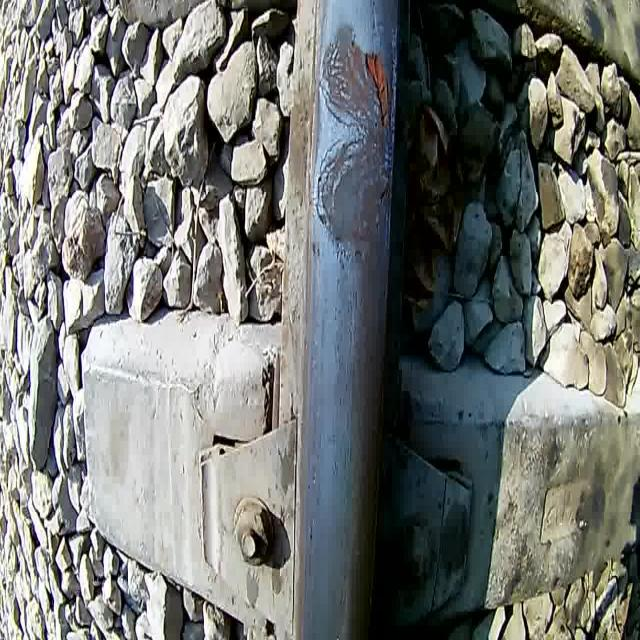Cracks: (316, 28, 369, 134), (316, 135, 364, 226)
Spallings: (360, 43, 395, 138)
Squats: (312, 13, 397, 266)
